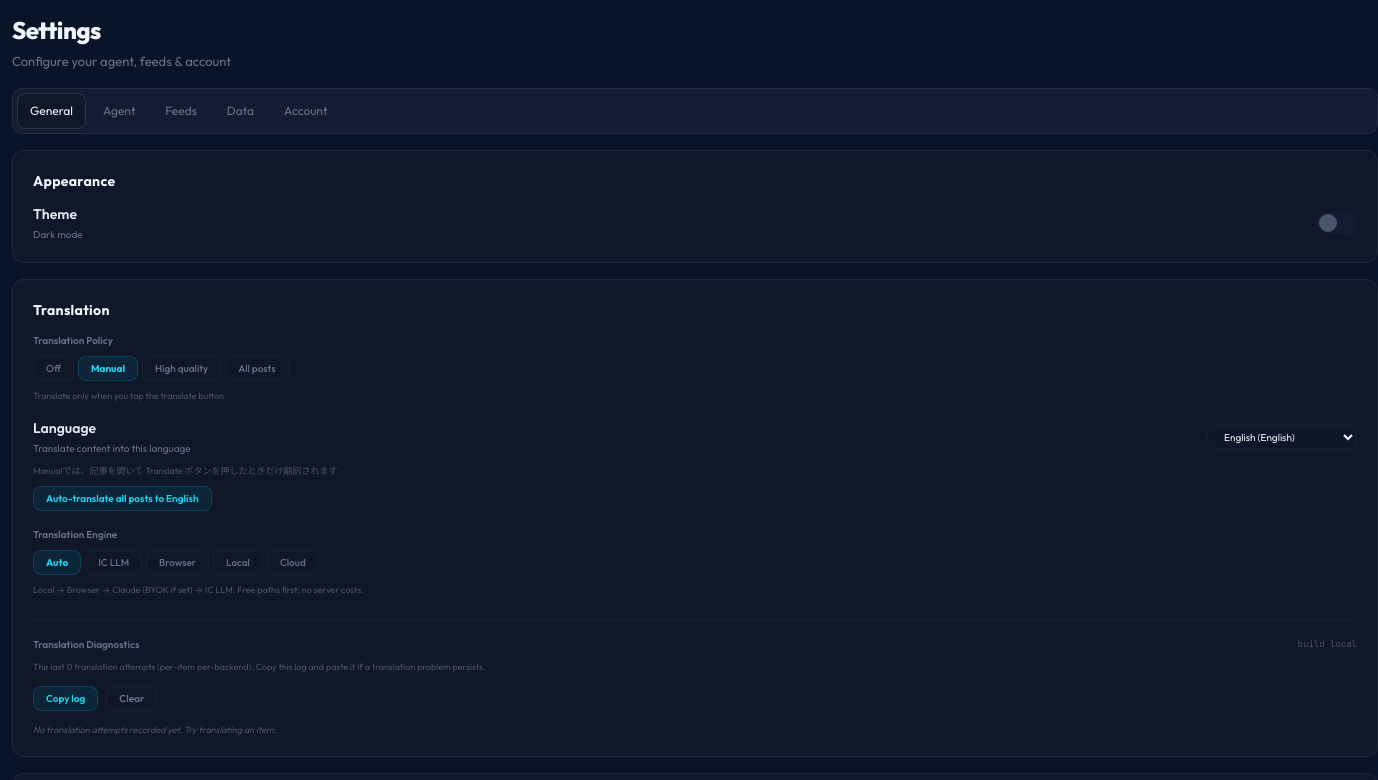
SettingsTab — sub-tab click navigation › switches to Data tab on click
Click the button with test id "settings-tab-data": x=240, y=110 [214,92,267,128]
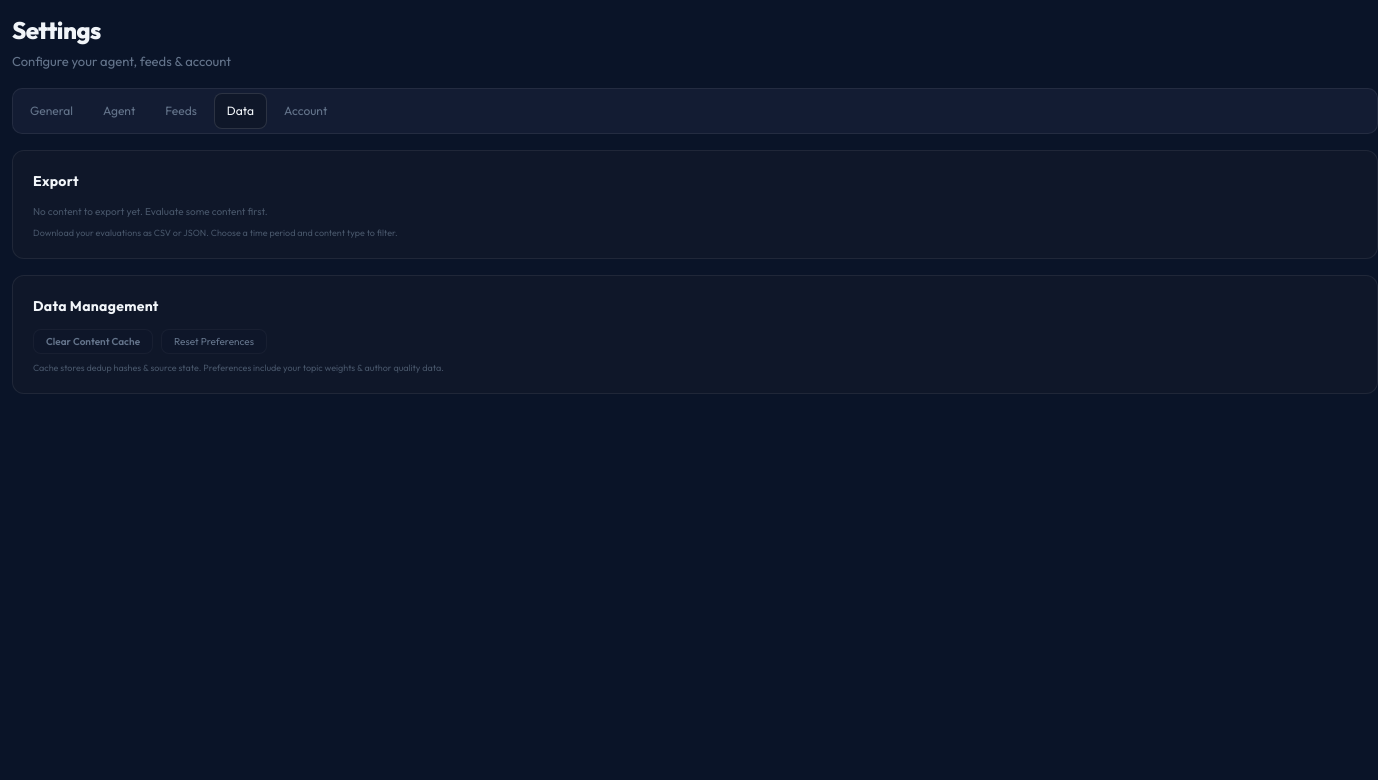
Now the text "Data Management" is shown, box [33,297,159,315]
Now the text "Appearance" is gone
